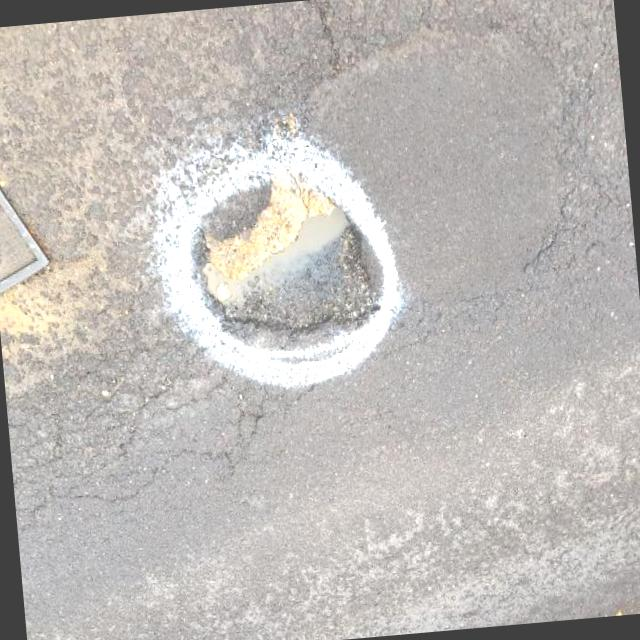pothole: (183, 146, 383, 354)
